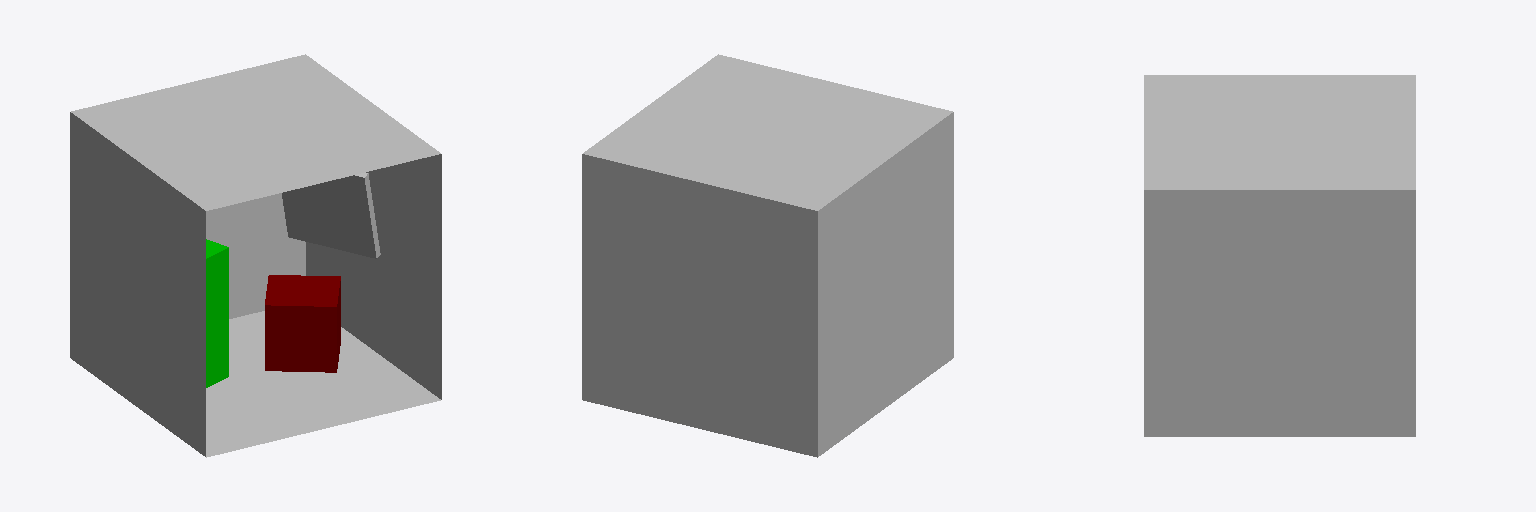
The model's file is AnisotropicTest.obj.
3 views of the same model, side by side, from view 1: azimuth 30°, elevation 25°; view 2: azimuth 150°, elevation 25°; view 3: azimuth 270°, elevation 25° (orthographic).
Visible parts, largest first — view 1: Cube.001, Cube.002, Cube.003, Cube; view 2: Cube.001; view 3: Cube.001.
Part boxes in pixels (left/top/right/bottom): Cube.001: left=70, top=54, right=441, bottom=457; Cube.002: left=265, top=275, right=340, bottom=372; Cube.003: left=282, top=172, right=380, bottom=258; Cube: left=206, top=239, right=228, bottom=387; Cube.001: left=582, top=54, right=953, bottom=457; Cube.001: left=1144, top=75, right=1415, bottom=436.
Bounding box in the file's own units: 4 × 4 × 4.